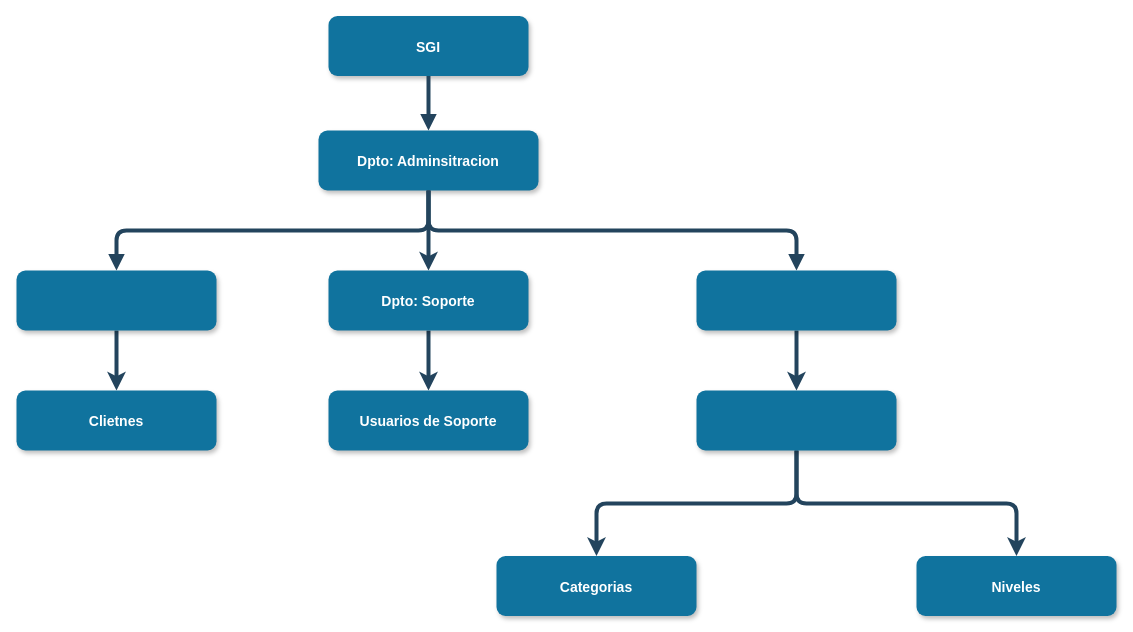
The diagram is 1133 pixels wide and 632 high, and some of its shapes have lost their labels. Here are the shapes that lost their labels. From the top down, the centre of each, then its label:
At point (117, 301): "Dpto: Clientes".
At point (797, 301): "Dpto: Proyectos".
At point (797, 421): "Proyectos".
